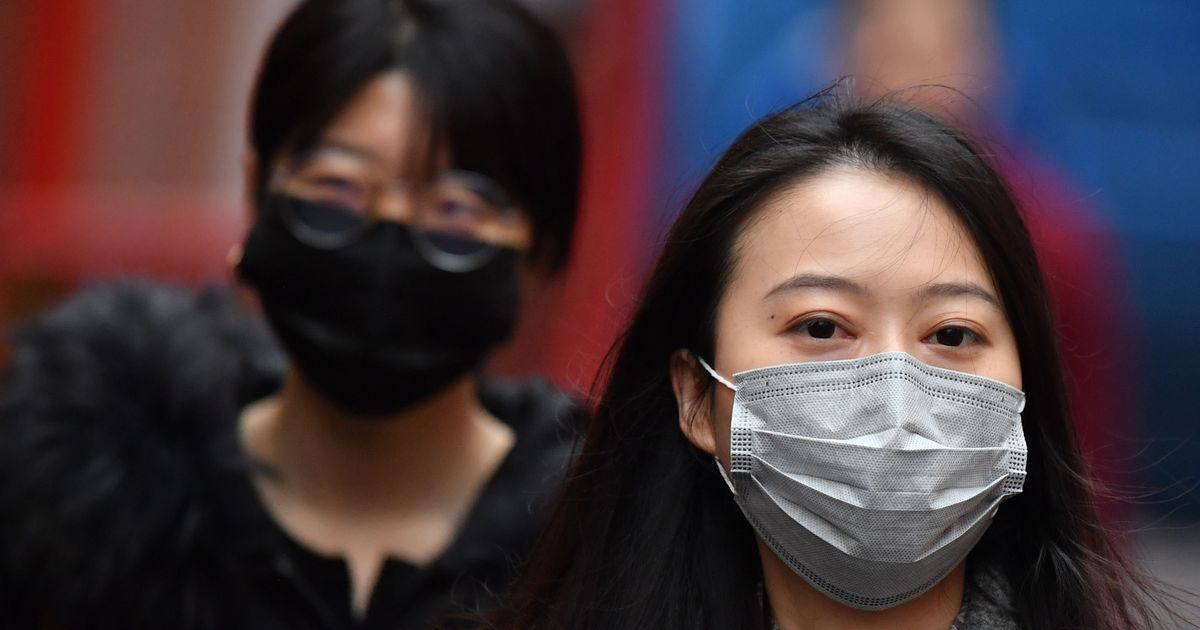Mask: (705, 172, 1029, 608), (251, 71, 532, 423)
